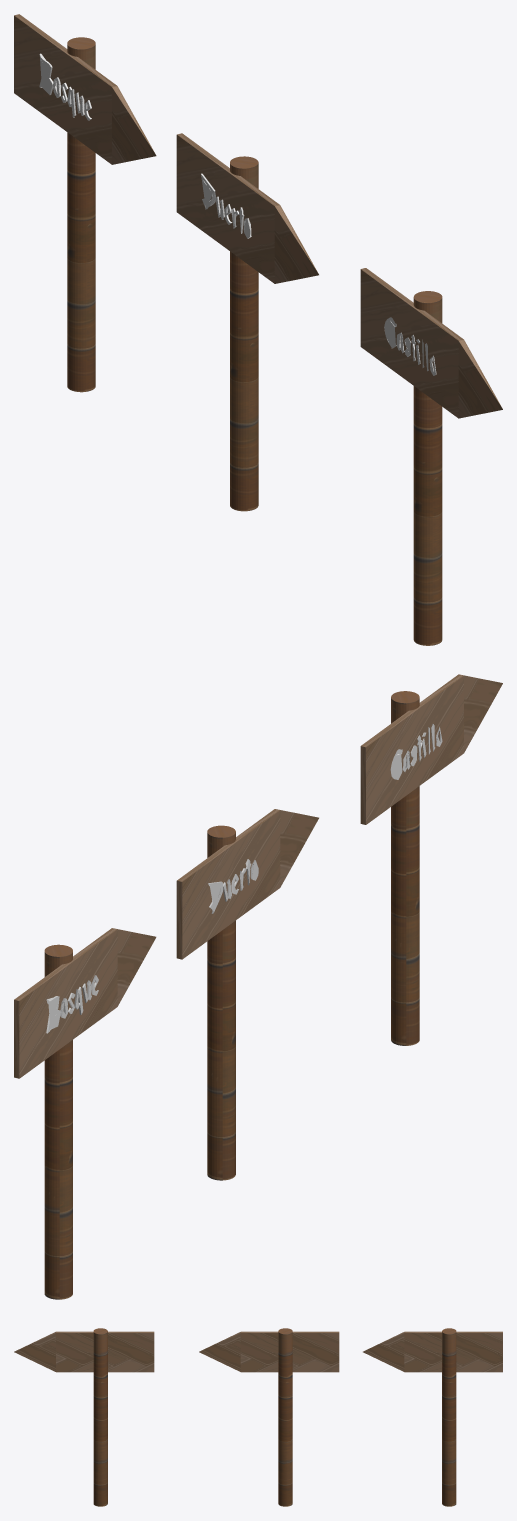
Rendered from PropsCarteles.fbx.
3 renders of one model, top to bottom at view 1: azimuth 30°, elevation 25°; view 2: azimuth 150°, elevation 25°; view 3: azimuth 270°, elevation 25°, orthographic. The views are drawn at different scales.
Parts seen in each view (by area): view 1: Cartel1, Cartel3, Cartel4; view 2: Cartel3, Cartel1, Cartel4; view 3: Cartel3, Cartel1, Cartel4.
Part boxes in pixels (x1,y1,x2,y2): Cartel1: [360, 268, 502, 645]; Cartel3: [176, 133, 318, 511]; Cartel4: [14, 14, 156, 392]; Cartel3: [176, 809, 318, 1180]; Cartel1: [360, 674, 502, 1045]; Cartel4: [14, 928, 156, 1299]; Cartel3: [199, 1328, 339, 1506]; Cartel1: [14, 1328, 154, 1506]; Cartel4: [363, 1328, 502, 1506].
Bounding box in the file's own units: 54.1 × 621 × 1595.
Materials: 9 (6 with a texture image).
